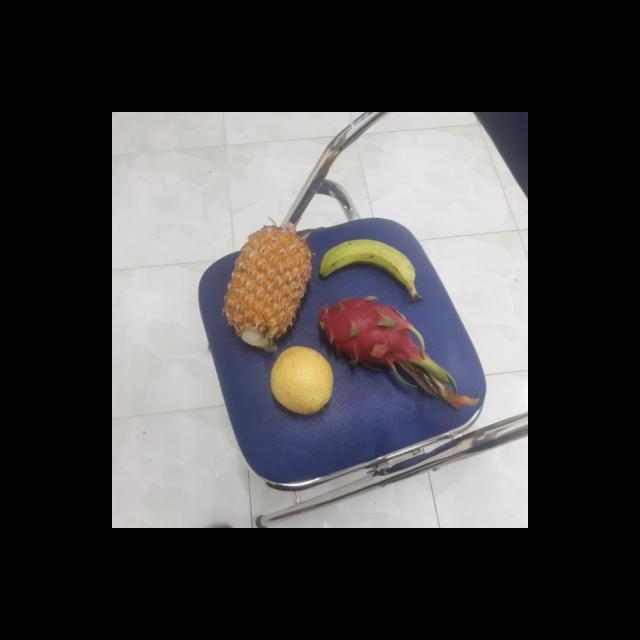banana: (316, 238, 422, 301)
pear: (266, 348, 335, 417)
pineapple: (222, 222, 312, 354)
pitaya: (314, 298, 422, 374)
